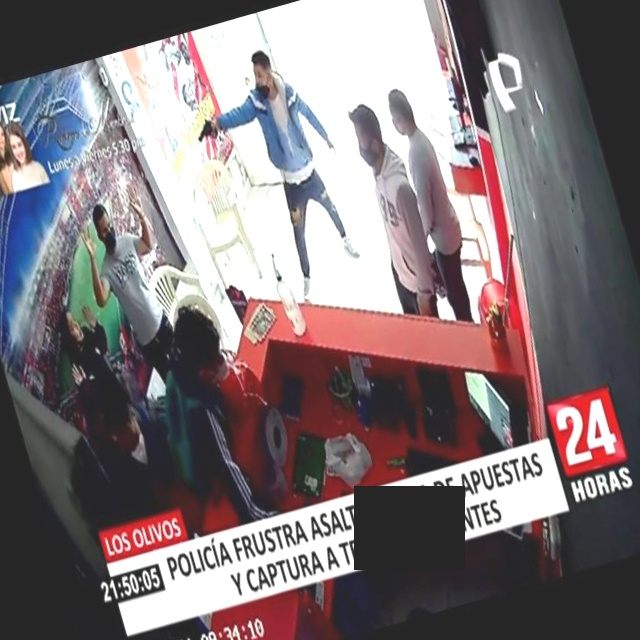gun: (181, 98, 231, 156)
